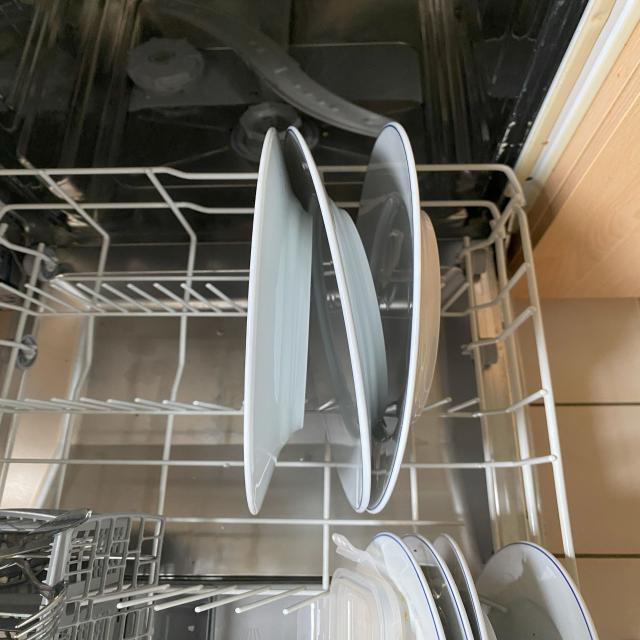empty_slot: (15, 178, 237, 510)
